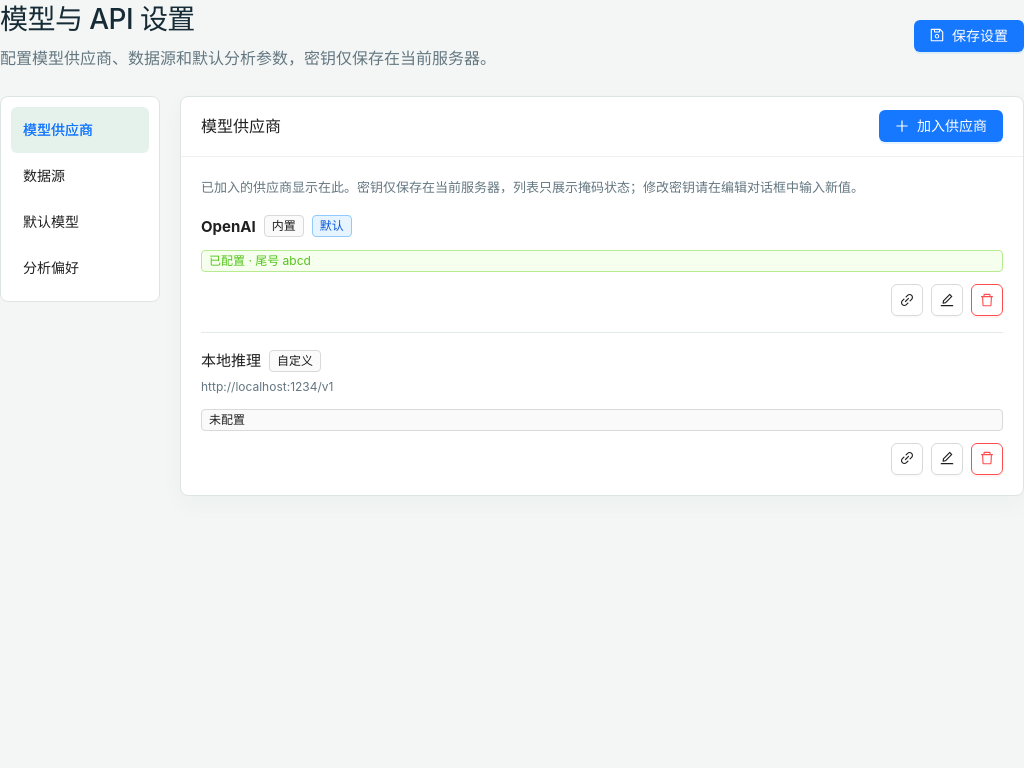
opens the join dialog and switches between supplier kinds
Click the button "加入供应商".
click(941, 126)  # box [879, 110, 1003, 142]
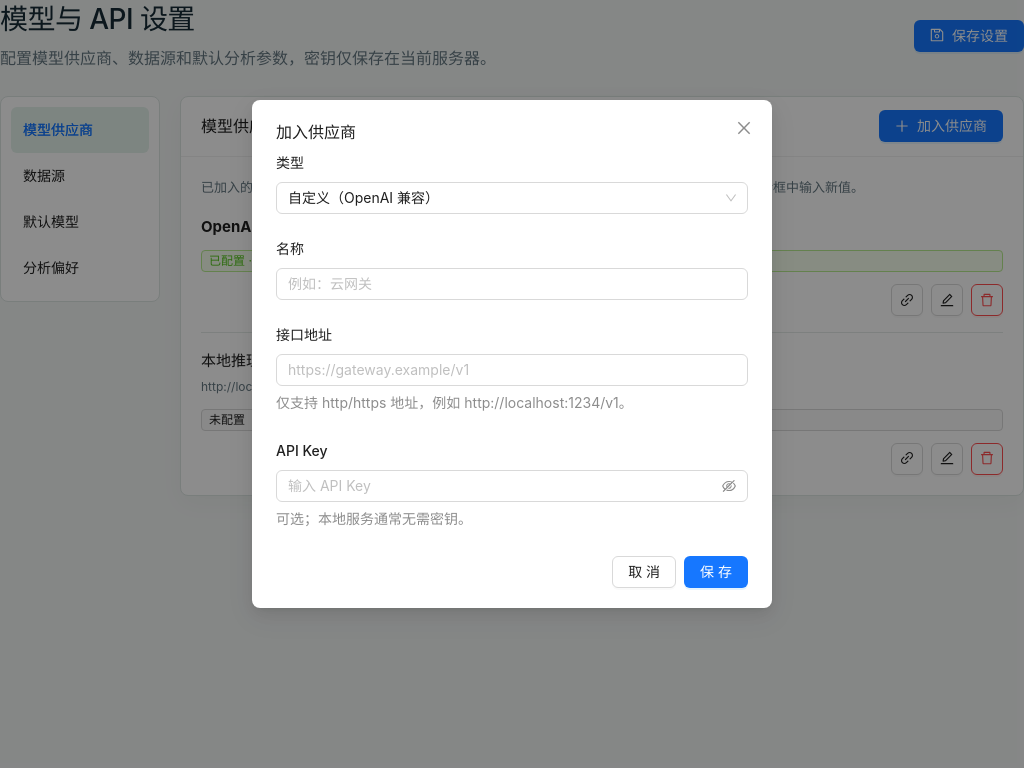
Expected: the dialog is shown, [252, 100, 772, 632]
Click the dropdown labelled "类型".
click(297, 163)  # box [276, 152, 318, 174]
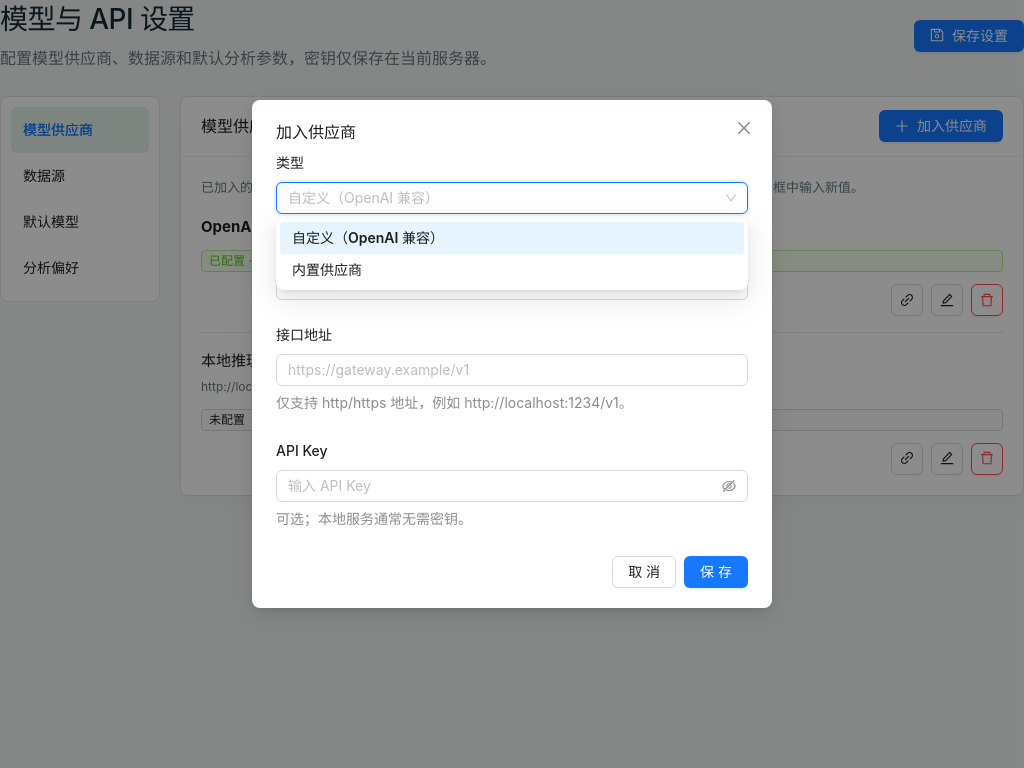
Expected: the text "内置供应商" is shown
Click the option "内置供应商".
click(327, 270)  # box [292, 261, 362, 278]
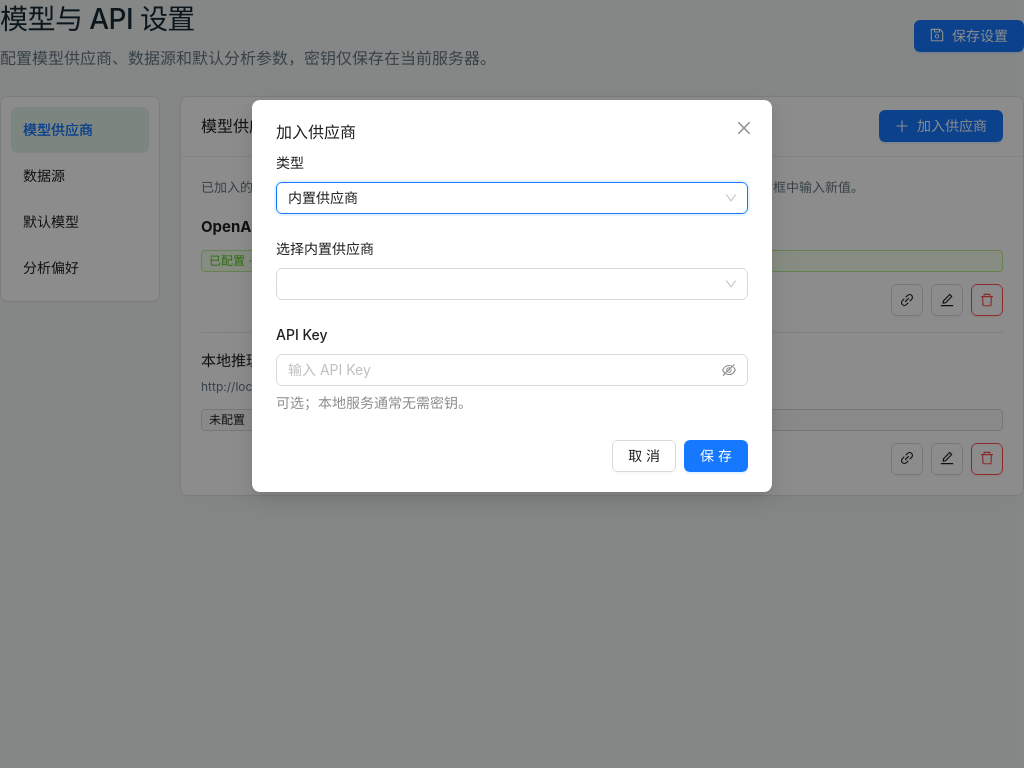
Expected: the search field labelled "选择内置供应商" is shown, [276, 238, 388, 260]
